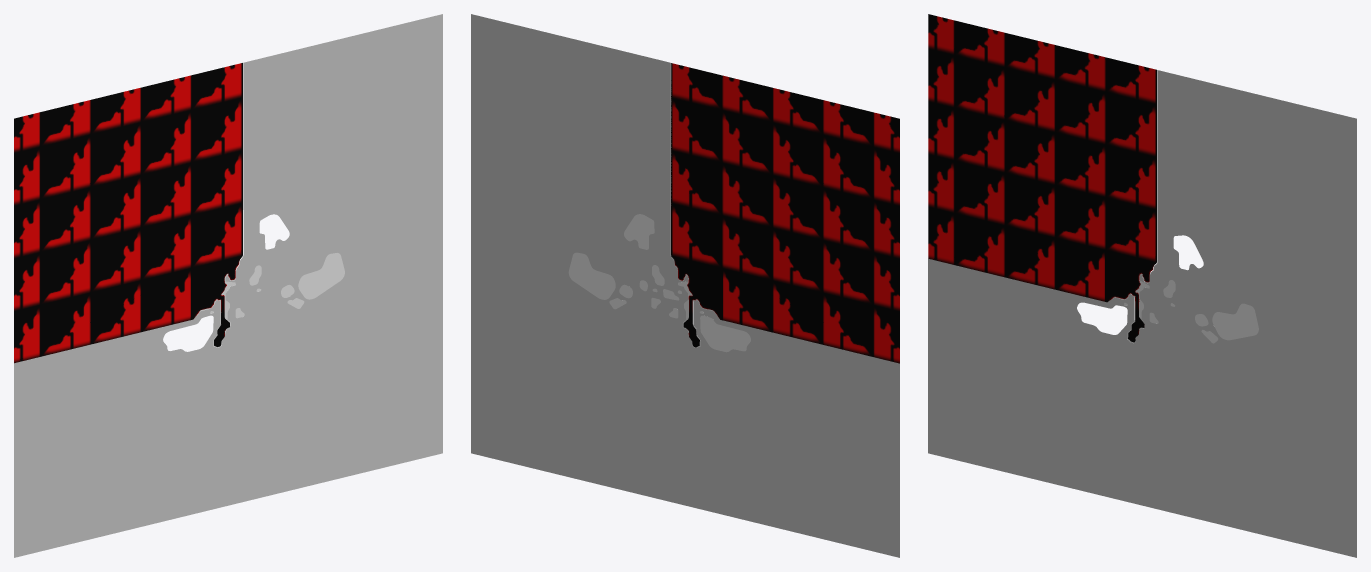
The model's file is DarEsSalaam.glb.
3 renders of one model, left to right at view 1: azimuth 30°, elevation 25°; view 2: azimuth 150°, elevation 25°; view 3: azimuth 330°, elevation 25°, orthographic.
Visible parts, largest first — view 1: DarEsSalaam_Land, DarEsSalaam_water, DarEsSalaam_Grass; view 2: DarEsSalaam_Land, DarEsSalaam_water, DarEsSalaam_Grass, DarEsSalaam_Beach; view 3: DarEsSalaam_Land, DarEsSalaam_water, DarEsSalaam_Grass.
Part boxes in pixels (x1=…): DarEsSalaam_Land: x1=14, y1=14, x2=442, y2=557; DarEsSalaam_water: x1=14, y1=63, x2=242, y2=363; DarEsSalaam_Grass: x1=210, y1=253, x2=344, y2=319; DarEsSalaam_Land: x1=471, y1=14, x2=899, y2=557; DarEsSalaam_water: x1=671, y1=63, x2=899, y2=363; DarEsSalaam_Grass: x1=568, y1=214, x2=750, y2=352; DarEsSalaam_Beach: x1=670, y1=63, x2=717, y2=347; DarEsSalaam_Land: x1=928, y1=70, x2=1356, y2=557; DarEsSalaam_water: x1=928, y1=14, x2=1156, y2=342; DarEsSalaam_Grass: x1=1124, y1=280, x2=1258, y2=343.
Size of the model in its own units: 482 by 472 by 0.2.
Materials: 4 (1 with a texture image).
